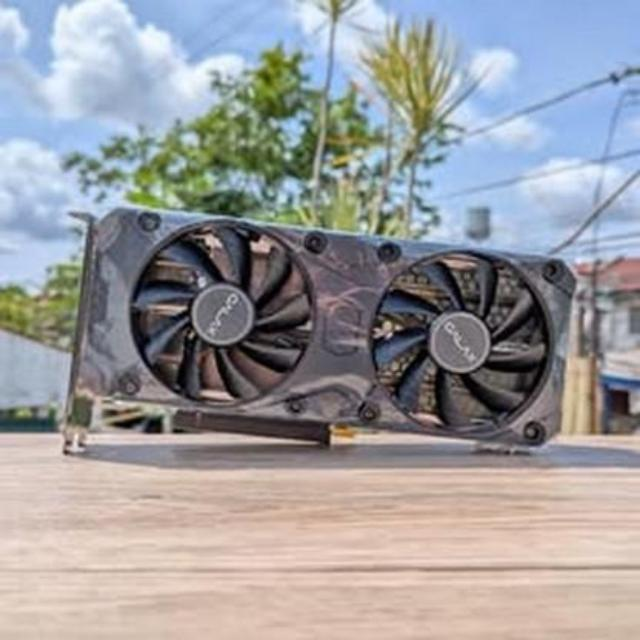GPU: (60, 194, 582, 468)
